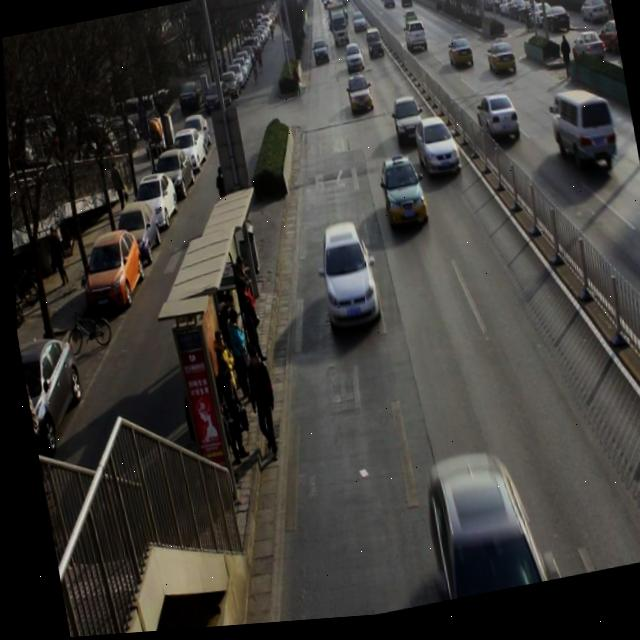bus: (325, 8, 350, 52)
car: (410, 448, 541, 609), (310, 222, 381, 341), (374, 159, 428, 237), (411, 120, 462, 191), (471, 95, 522, 155), (387, 96, 426, 158), (484, 45, 520, 85), (342, 77, 375, 117), (445, 39, 474, 78), (401, 24, 431, 60), (308, 39, 333, 77), (362, 33, 386, 66), (341, 46, 364, 76), (350, 15, 367, 39)
truck: (545, 90, 624, 193)
